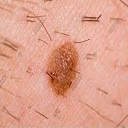Actinic: (47, 38, 78, 96)
